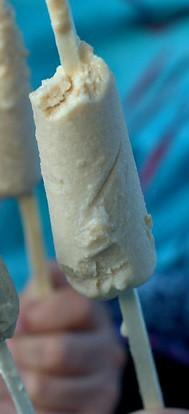Kulfi: (29, 39, 154, 299), (0, 0, 38, 196)
